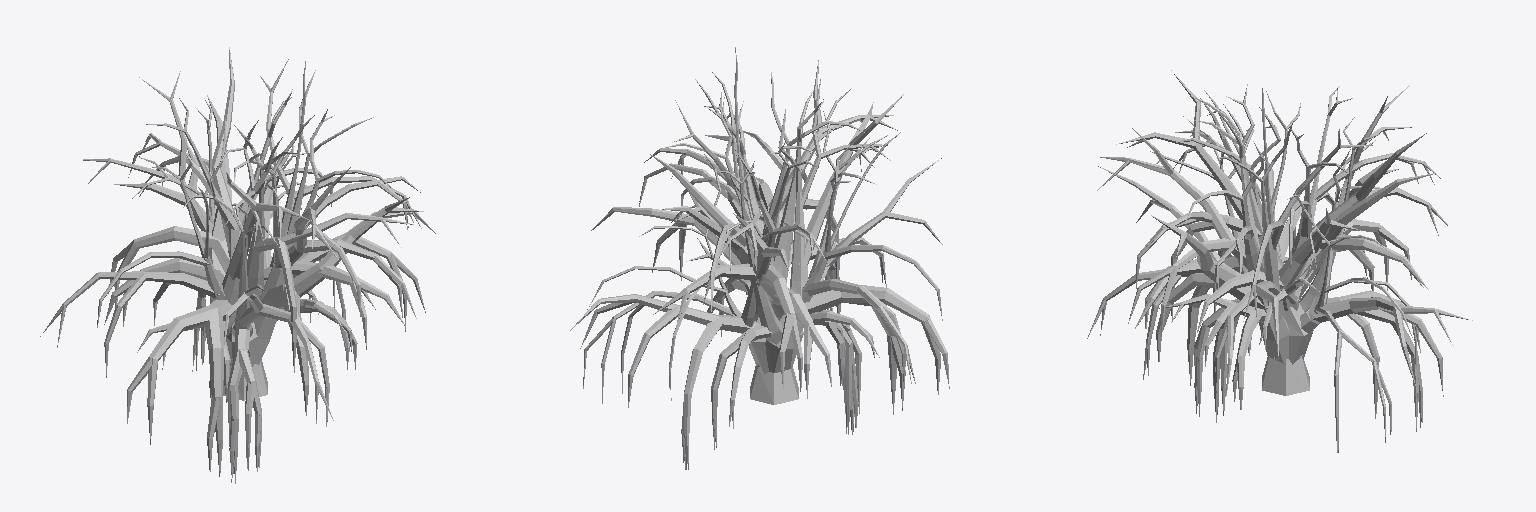
Rendered from tree22.obj.
3 views of the same model, side by side, from view 1: azimuth 30°, elevation 25°; view 2: azimuth 150°, elevation 25°; view 3: azimuth 270°, elevation 25° (orthographic).
Visible parts, largest first — view 1: tree; view 2: tree; view 3: tree.
Part boxes in pixels (x1,y1,x2,y2): tree: (40,47,435,483); tree: (570,47,949,469); tree: (1087,70,1472,452).
Bounding box in the file's own units: 9.82 × 10.09 × 9.15.